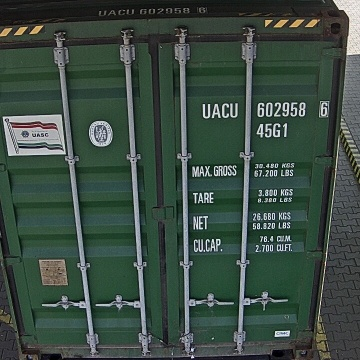serial_id: (203, 101, 329, 118)
